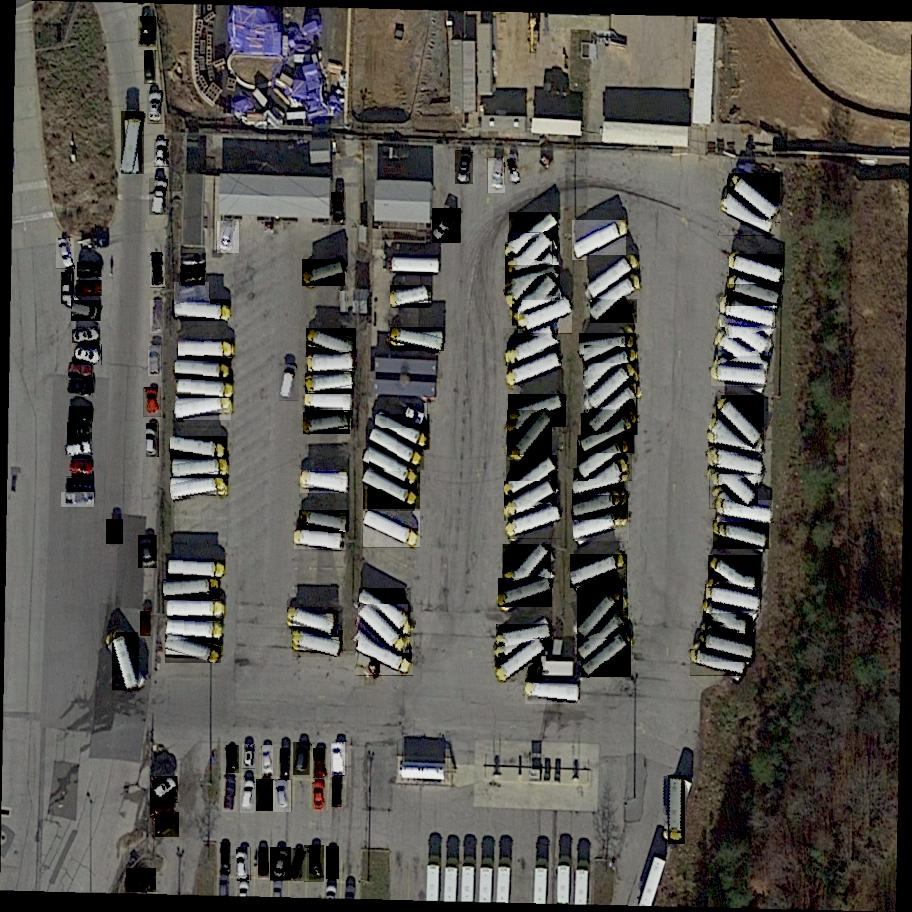large-vehicle: (588, 381, 641, 435), (574, 611, 630, 661), (727, 174, 782, 224), (706, 555, 763, 603), (357, 605, 409, 657), (715, 396, 766, 449), (580, 629, 634, 679), (576, 436, 634, 482), (505, 234, 557, 285), (589, 273, 640, 325), (512, 275, 562, 328), (503, 543, 552, 596), (507, 411, 555, 465), (358, 587, 413, 634), (708, 460, 759, 509), (588, 364, 639, 413), (508, 213, 560, 261), (506, 455, 558, 503), (577, 588, 625, 640), (368, 429, 426, 472), (361, 468, 420, 510), (586, 255, 640, 300), (572, 221, 631, 262), (355, 638, 415, 678), (717, 312, 771, 356), (717, 333, 773, 375), (496, 639, 548, 684), (580, 414, 638, 454), (362, 449, 419, 489), (503, 328, 563, 366), (701, 601, 755, 643), (582, 348, 640, 387), (504, 481, 559, 522), (363, 511, 422, 549), (719, 200, 775, 238), (504, 353, 563, 388), (570, 554, 629, 589), (374, 414, 431, 450), (508, 394, 567, 428), (518, 300, 574, 334), (505, 508, 563, 540), (166, 633, 222, 666), (720, 298, 779, 328), (571, 492, 631, 521), (505, 265, 561, 296), (727, 255, 786, 284), (572, 469, 631, 498), (699, 633, 758, 662), (726, 276, 783, 306), (573, 512, 631, 541), (498, 578, 554, 608), (712, 521, 769, 550), (112, 633, 140, 691), (689, 649, 748, 676), (306, 328, 357, 359), (175, 396, 233, 422), (495, 625, 553, 651), (121, 110, 144, 175), (707, 450, 765, 475), (287, 608, 338, 636), (170, 436, 227, 461), (173, 299, 230, 324), (706, 588, 763, 613), (578, 334, 638, 357), (292, 630, 343, 657), (525, 680, 582, 704), (706, 431, 765, 454), (716, 501, 774, 524), (171, 478, 226, 502), (390, 328, 444, 352), (166, 619, 224, 641), (711, 365, 769, 387), (302, 260, 348, 287), (176, 378, 233, 399), (171, 459, 228, 479), (299, 470, 348, 493), (299, 511, 350, 533), (167, 561, 226, 580), (164, 580, 220, 600), (669, 776, 685, 844), (303, 413, 351, 435), (175, 362, 231, 380), (167, 601, 222, 619), (294, 531, 343, 551), (305, 374, 354, 394), (390, 286, 432, 309), (308, 356, 355, 374), (179, 341, 231, 357), (305, 395, 352, 411)
small-vehicle: (429, 209, 462, 243), (175, 282, 211, 306), (279, 363, 300, 402), (285, 848, 309, 882), (150, 777, 179, 804), (217, 221, 240, 255), (149, 177, 169, 216), (126, 868, 157, 893), (154, 812, 183, 838), (306, 845, 326, 882), (270, 846, 291, 881), (61, 440, 95, 461), (455, 151, 475, 186), (138, 535, 159, 568), (273, 779, 293, 813), (488, 158, 507, 193), (294, 742, 312, 777), (71, 300, 101, 321), (139, 15, 157, 49), (74, 344, 103, 365), (257, 779, 276, 811), (504, 153, 523, 185), (403, 403, 429, 426), (56, 239, 75, 269), (150, 253, 166, 288), (148, 90, 164, 125), (180, 266, 208, 286), (236, 847, 252, 881), (222, 779, 238, 813), (240, 780, 256, 814), (331, 191, 347, 225), (331, 743, 347, 776), (144, 387, 161, 418), (68, 422, 94, 442), (144, 51, 159, 84), (62, 493, 95, 508), (66, 460, 95, 477), (67, 380, 94, 398), (105, 520, 123, 546), (76, 280, 102, 298), (150, 800, 176, 818), (148, 345, 162, 377), (150, 300, 163, 334), (68, 406, 94, 423), (154, 139, 169, 168), (62, 273, 76, 304), (326, 846, 339, 879), (68, 363, 93, 380), (312, 781, 326, 811), (73, 329, 101, 344), (147, 423, 159, 457), (314, 748, 327, 779), (181, 253, 206, 268), (227, 745, 240, 773), (242, 744, 256, 769), (67, 478, 93, 491), (78, 263, 101, 277), (259, 847, 269, 878), (221, 843, 231, 874), (263, 746, 273, 774), (281, 748, 290, 778), (332, 778, 341, 806), (141, 611, 150, 636)
